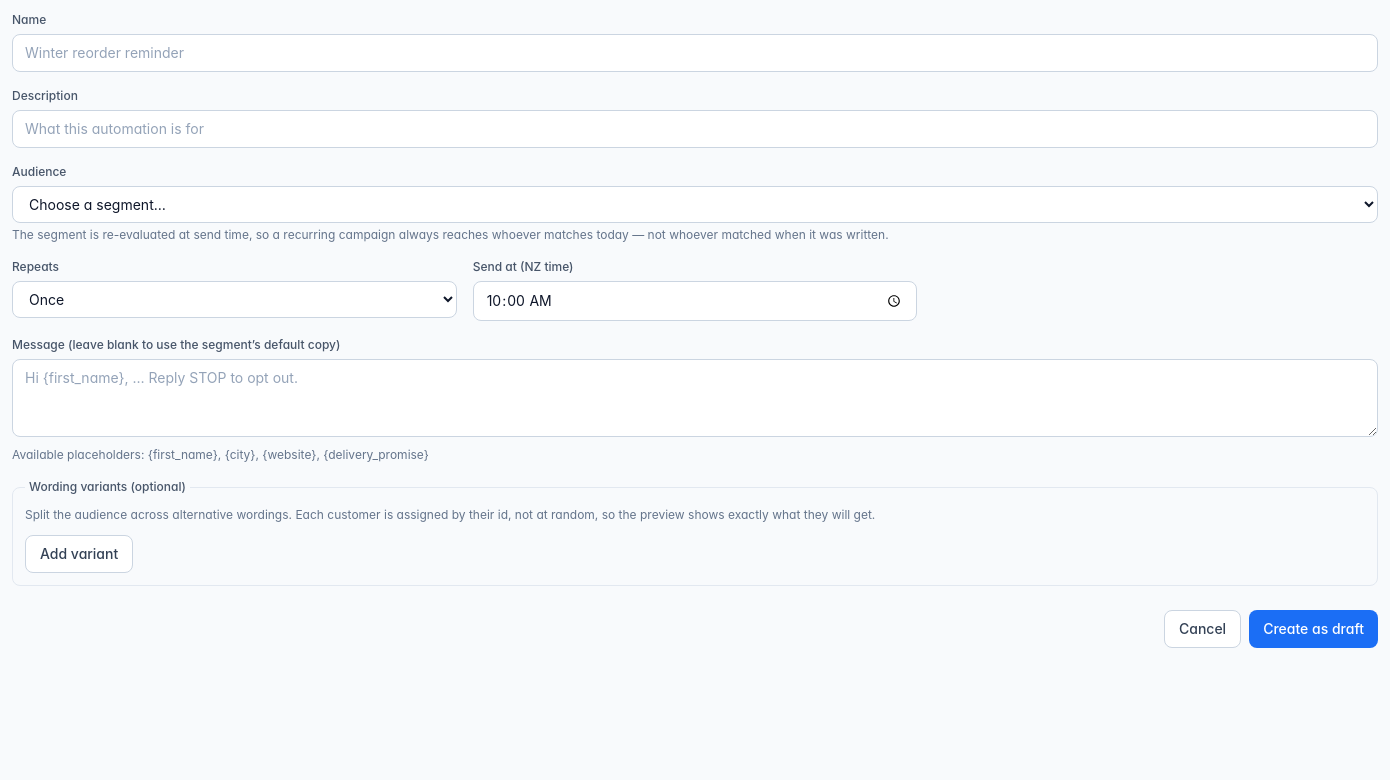
AutomationForm › offers weekday choice only for a weekly cohort send
Select "Weekly" in the dropdown labelled "Repeats" at (234, 300), box [12,281,457,318]
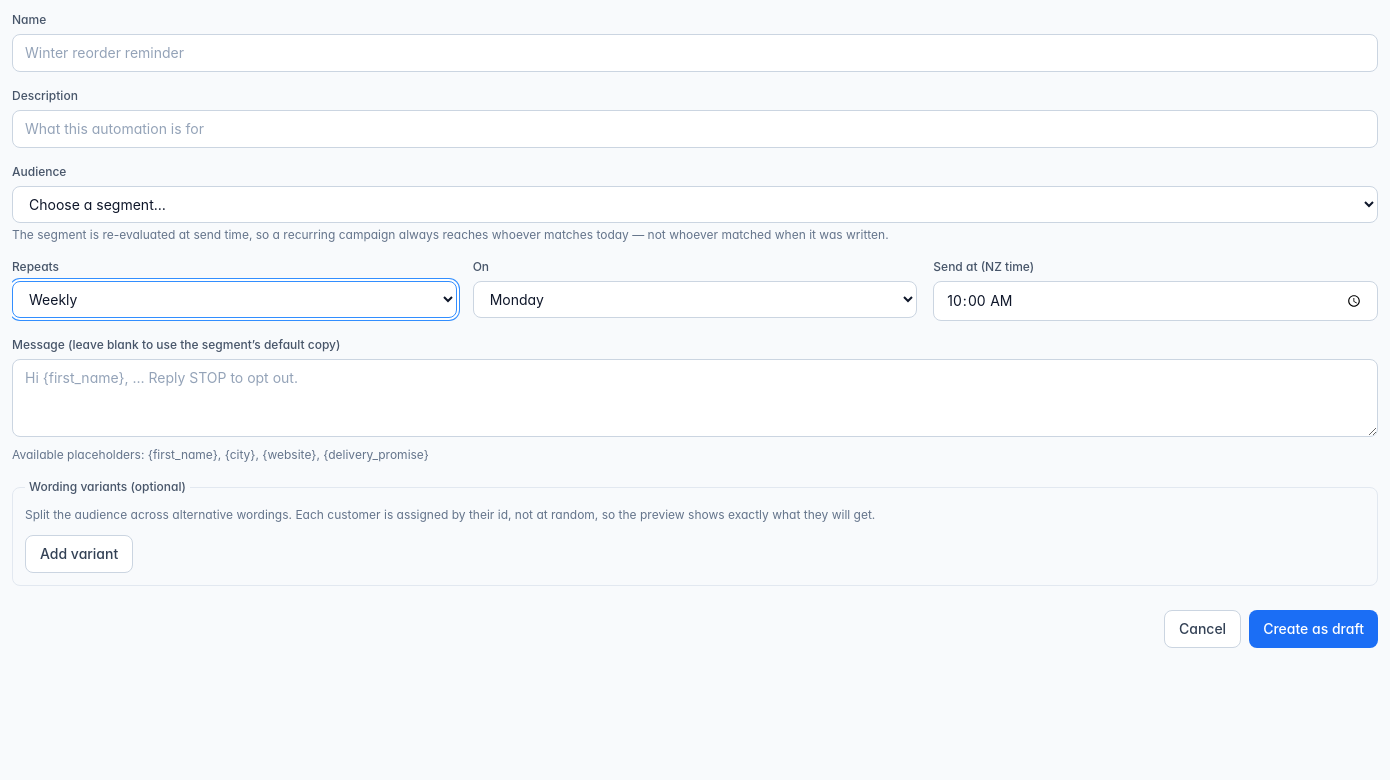
Now the dropdown labelled "On" is shown, box [473,281,917,318]
